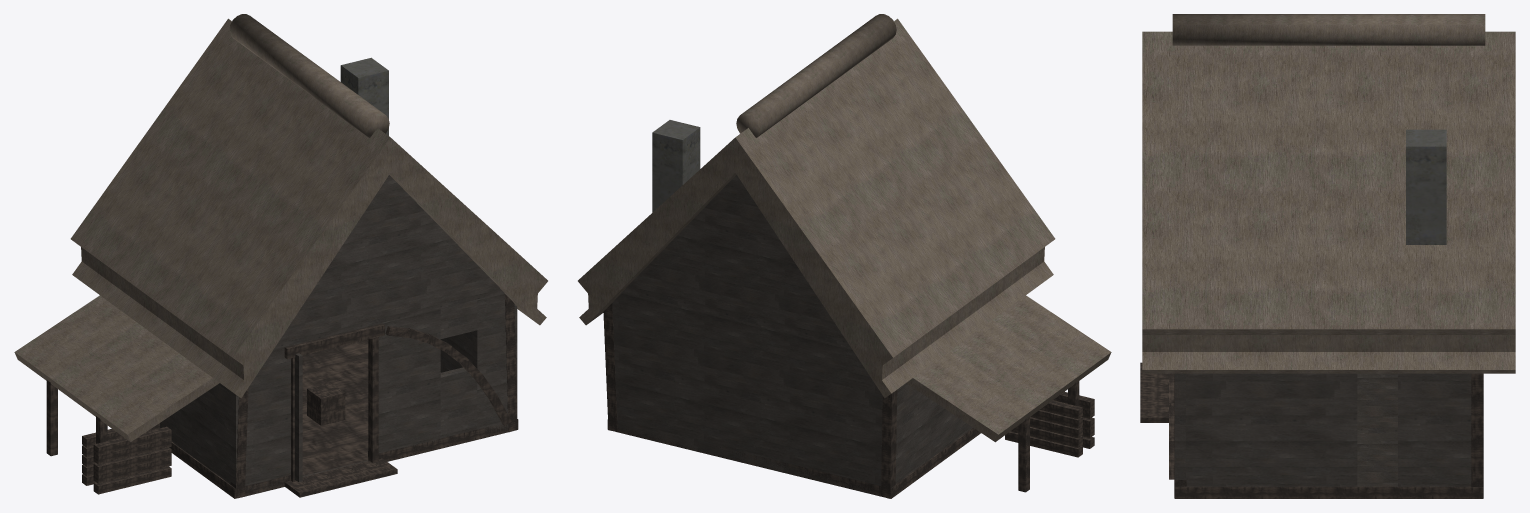
Rendered from prop_cottage_poor_a.glb.
3 renders of one model, left to right at view 1: azimuth 30°, elevation 25°; view 2: azimuth 150°, elevation 25°; view 3: azimuth 270°, elevation 25°, orthographic. The views are drawn at different scales.
Parts seen in each view (by area): view 1: prop_cottage_poor_a; view 2: prop_cottage_poor_a; view 3: prop_cottage_poor_a.
Boxes of the visible parts, x1,y1,x2,y2 form: prop_cottage_poor_a: [14, 14, 547, 498]; prop_cottage_poor_a: [578, 14, 1111, 498]; prop_cottage_poor_a: [1140, 14, 1515, 498].
Bounding box in the file's own units: 6.58 × 5.54 × 4.62.
Materials: 5 (5 with a texture image).
